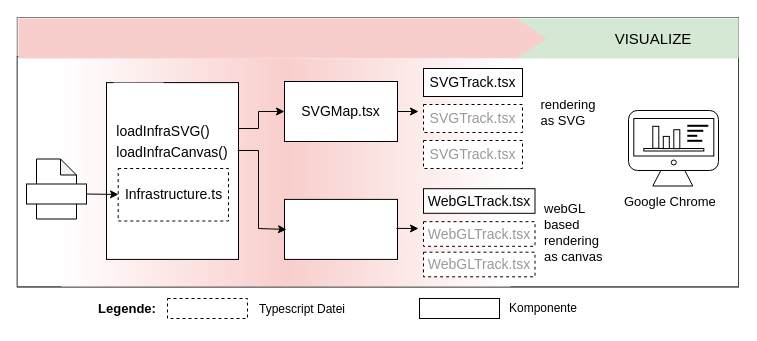
Some shapes in this 757 by 341 pixel diagram are drawn without their labels. Each missing label, with the centre of its shape:
"JSON" belongs at [56,193].
"LOAD" belongs at [268,38].
"Main.tsx" belongs at [138,98].
"WebGLMap.tsx" belongs at [341,228].
